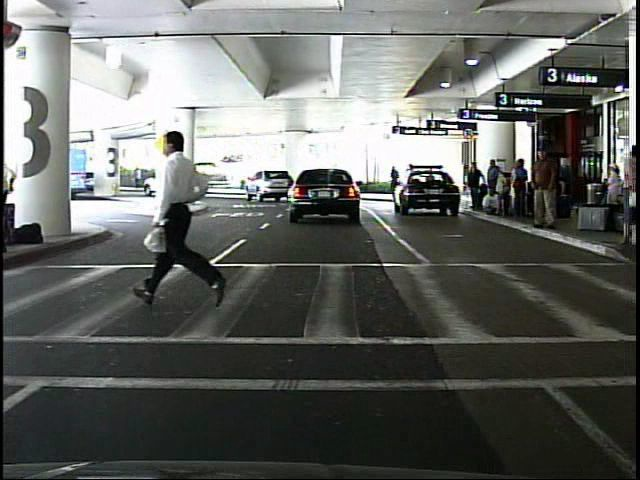person: (131, 128, 235, 310), (527, 142, 562, 232), (466, 158, 485, 210), (388, 164, 402, 199), (132, 163, 144, 188)
